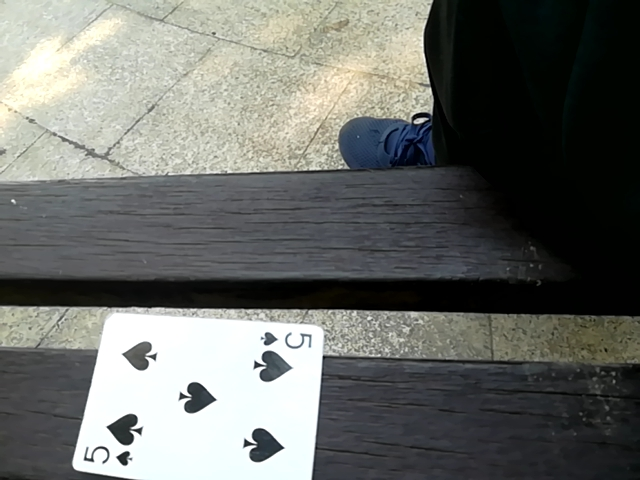ht 5: (64, 307, 321, 477)
